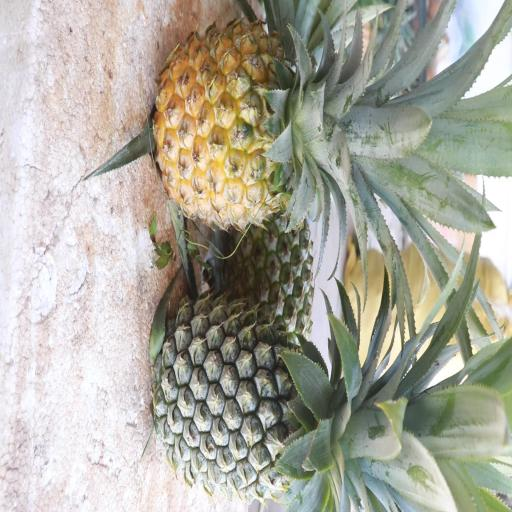Pineapple - v8 v1: (148, 9, 434, 240)
